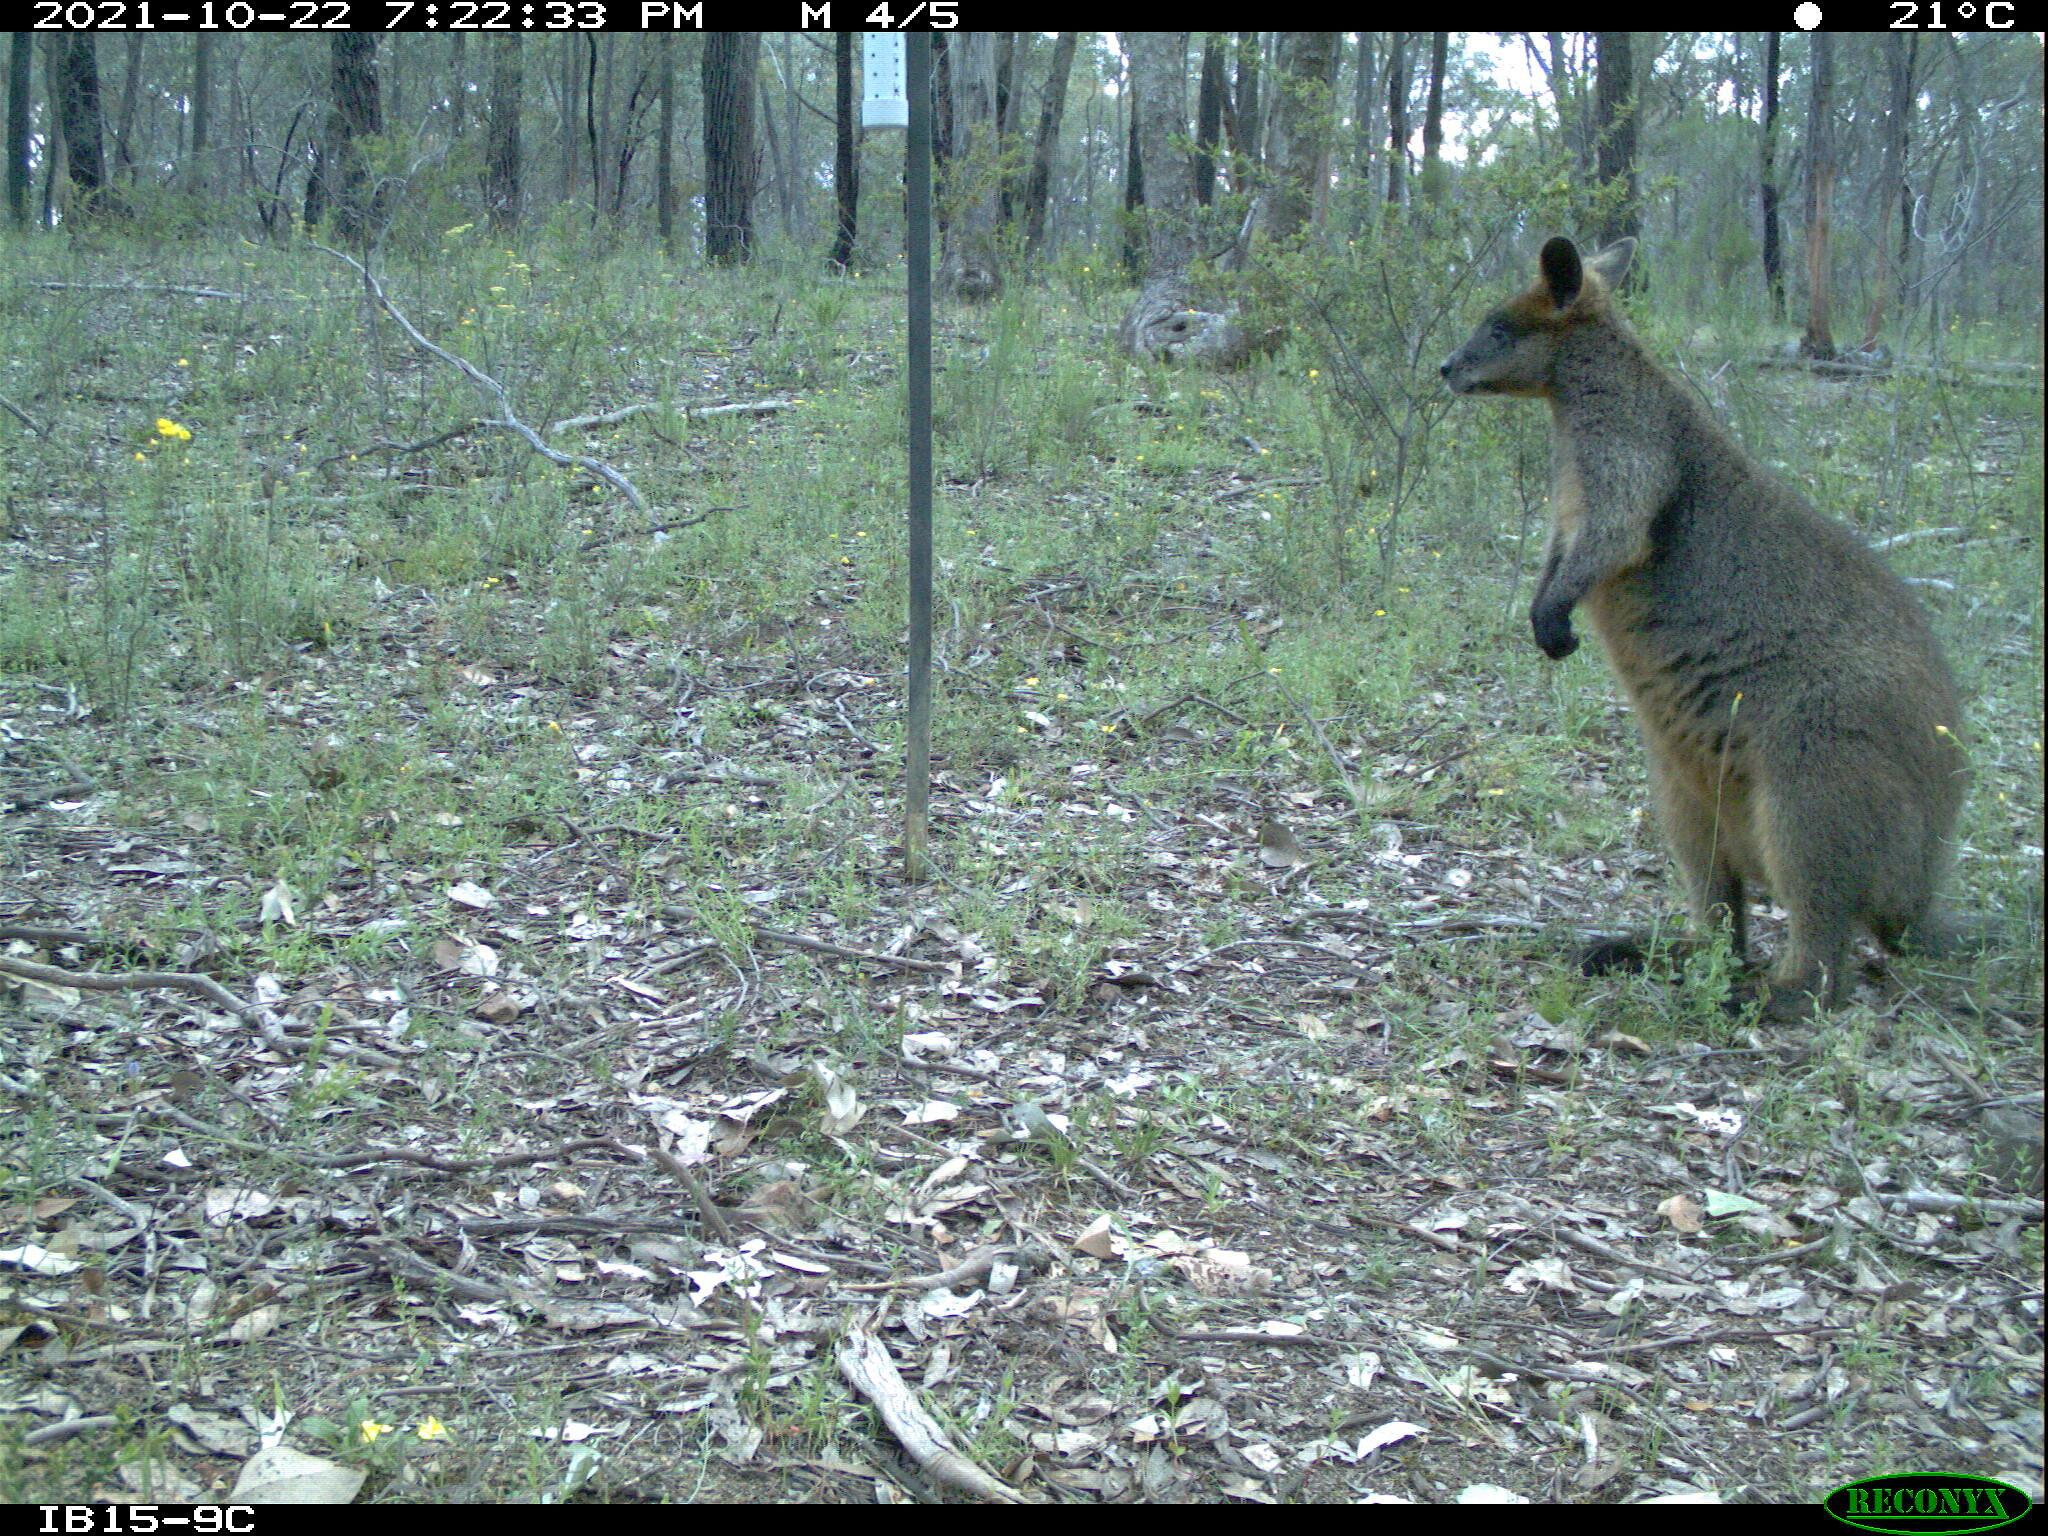Swamp wallaby: (1434, 232, 2048, 1018)
